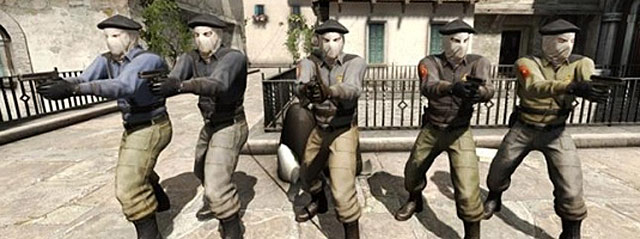t: (488, 19, 589, 239), (72, 15, 171, 238), (406, 19, 490, 239), (172, 16, 249, 239), (291, 20, 361, 239)
th: (431, 19, 480, 64), (97, 15, 143, 60), (312, 19, 352, 65), (185, 15, 229, 56), (537, 19, 577, 60)
